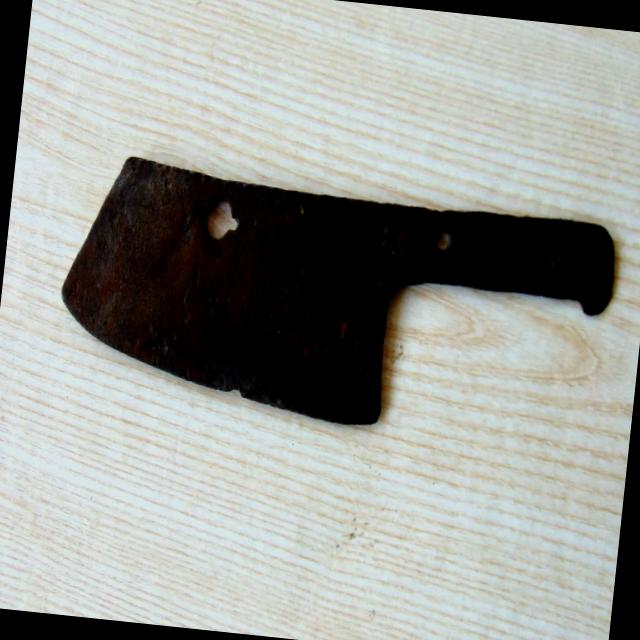cleaver: (59, 174, 613, 426)
